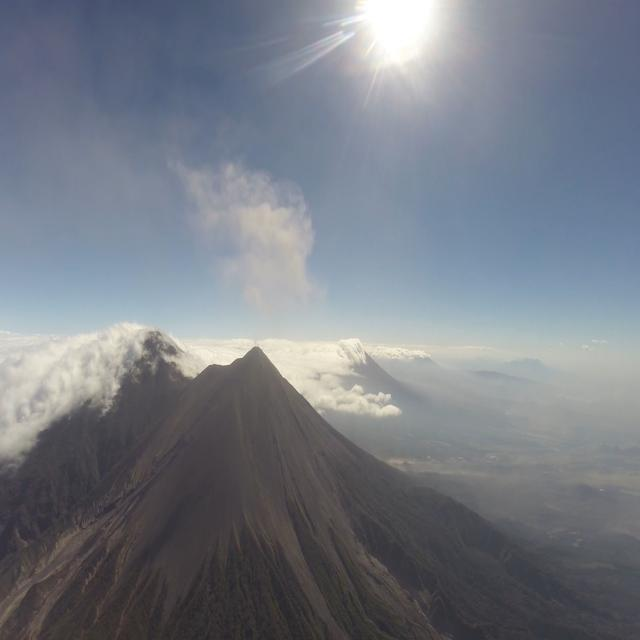Plume: (172, 113, 318, 306)
Summit: (228, 342, 278, 374)
